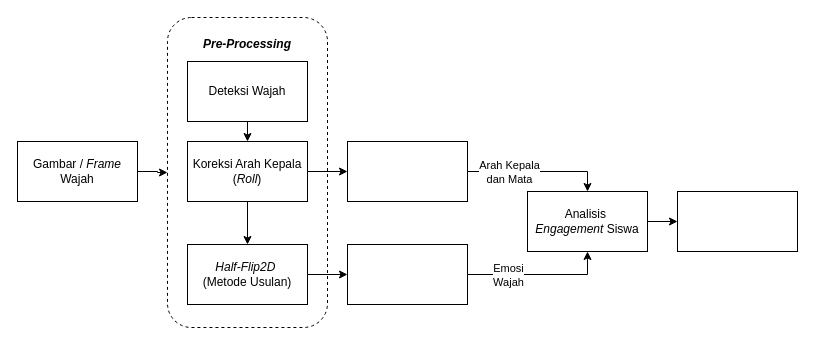
The diagram is 815 pixels wide and 345 high, and some of its shapes have lost their labels. Here are the shapes that lost their labels. From the top down, the centre of each, then its label:
At (407,171): "Analisis arah kepala ( Yaw ) dan arah mata".
At (737,221): "Kesimpulan Engagement Siswa".
At (407,274): "Klasifikasi oleh Model FER".
